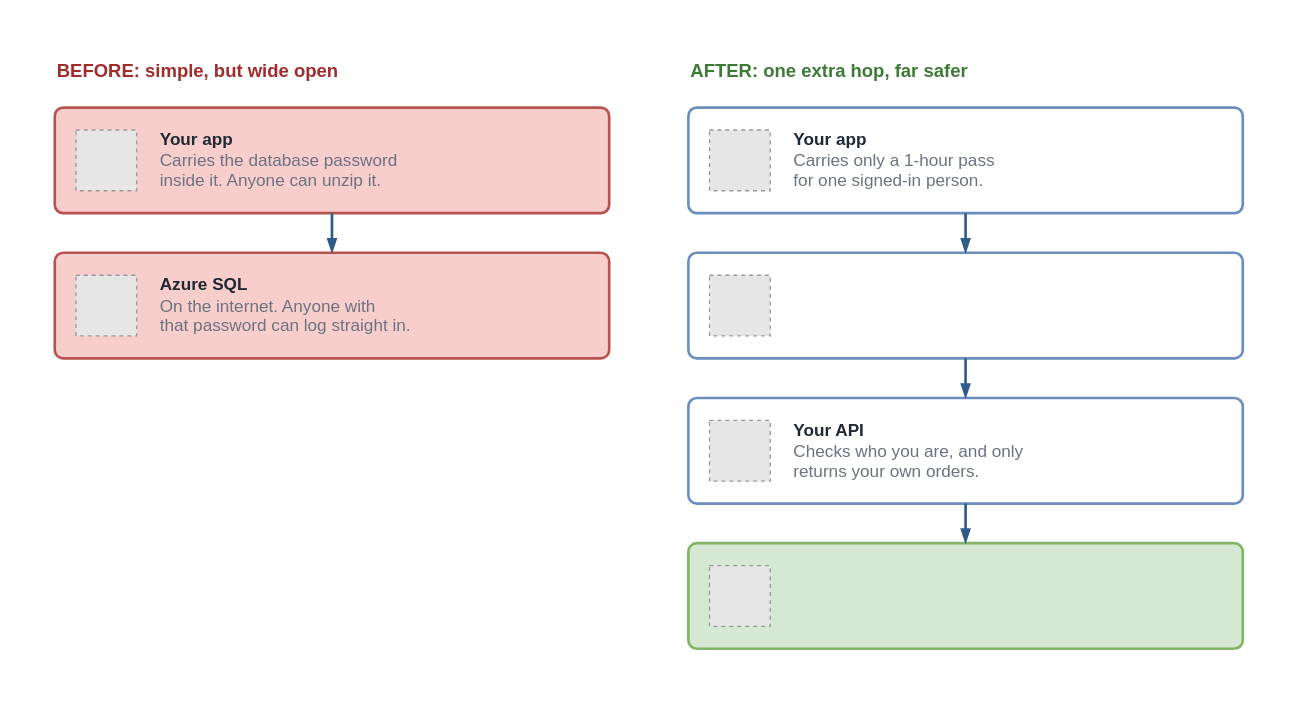
This 1296x725 diagram has some shape labels left out. Grey dashed boxes stand in for pictures. The box of each missing label's shape, as (x1, y1, x2, y2) in pixels:
Azure SQL Private. It has no internet address at all.: (686, 541, 1243, 649)
Front Door + WAF Throws away junk and attack traffic before it reaches you.: (686, 251, 1243, 359)
